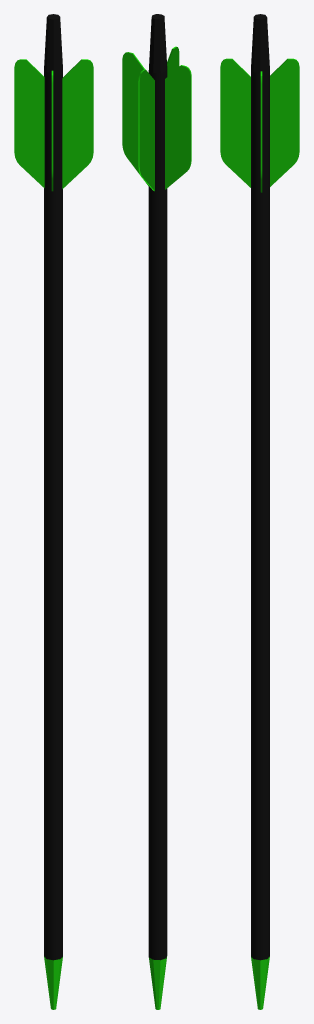
File: KC_Arrow.FBX
3 views of the same model, side by side, from view 1: azimuth 90°, elevation 25°; view 2: azimuth 150°, elevation 25°; view 3: azimuth 270°, elevation 25° (orthographic).
Visible parts, largest first — view 1: Cylinder005; view 2: Cylinder005; view 3: Cylinder005.
Boxes of the visible parts, box(x1,y1,x2,y2) form: Cylinder005: box(14, 14, 93, 1009); Cylinder005: box(122, 14, 191, 1009); Cylinder005: box(220, 14, 299, 1009).
Size of the model in its own units: 5.89 by 81.52 by 5.89.
